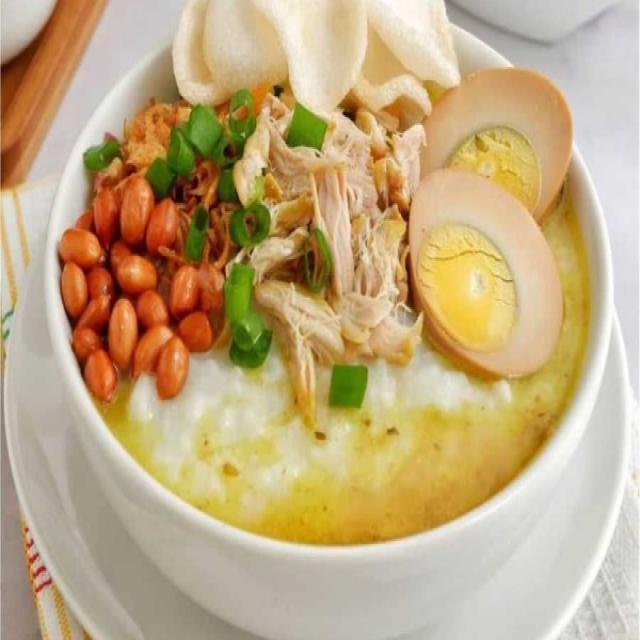bubur ayam: (59, 0, 588, 543)
mangkuk: (44, 12, 616, 630)
telur rebus: (408, 169, 564, 380), (417, 68, 572, 225)
